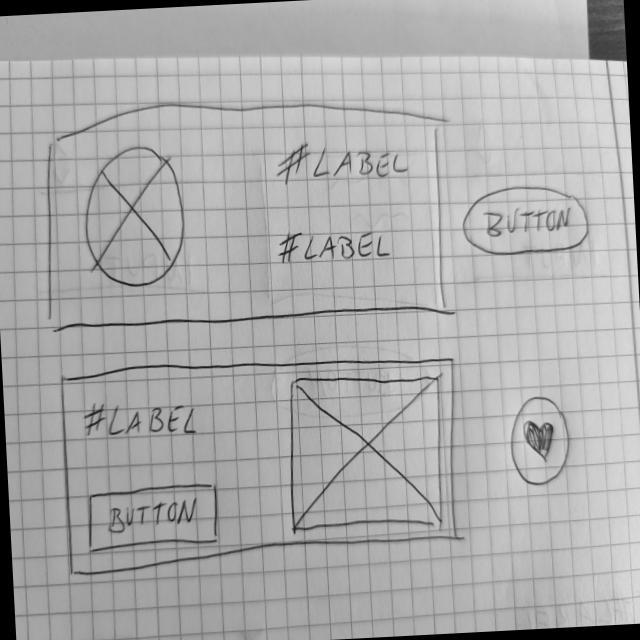button: (84, 479, 226, 556), (459, 181, 595, 261)
container: (34, 82, 452, 341), (56, 348, 470, 583)
icon-button: (505, 392, 577, 489)
image: (282, 371, 452, 538), (80, 140, 193, 293)
label: (273, 134, 412, 190), (81, 396, 206, 446), (270, 222, 398, 270)
